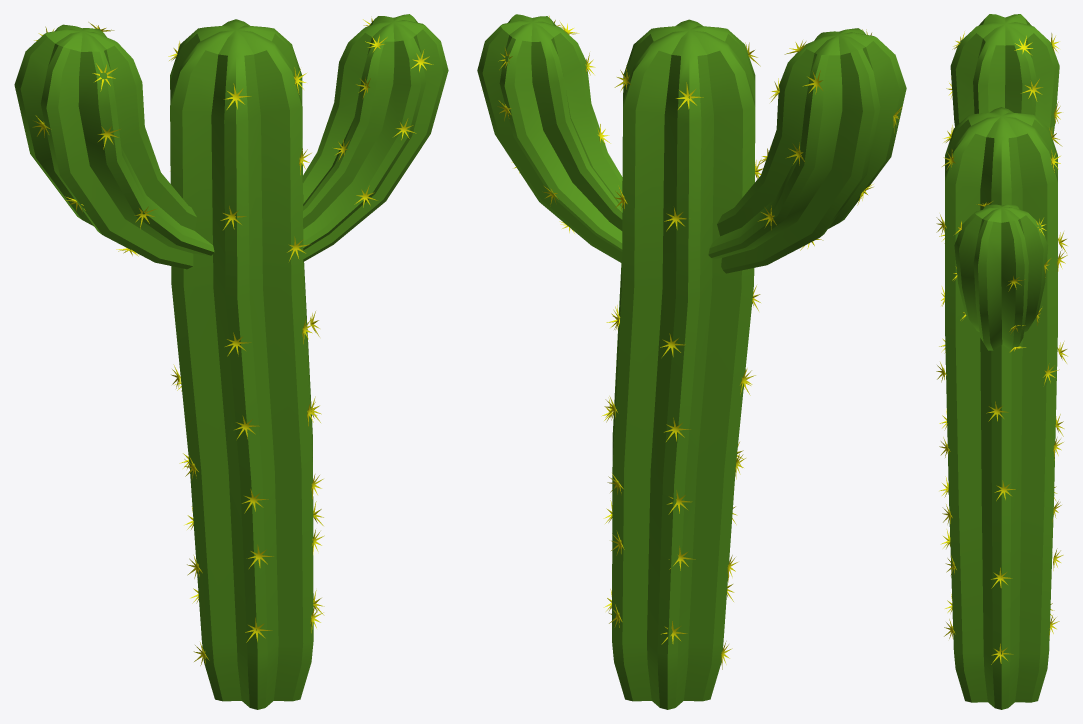
File: cactus02.obj
3 renders of one model, left to right at view 1: azimuth 30°, elevation 25°; view 2: azimuth 150°, elevation 25°; view 3: azimuth 270°, elevation 25°, orthographic. The views are drawn at different scales.
Parts seen in each view (by area): view 1: Cactuss_02_cactus02; view 2: Cactuss_02_cactus02; view 3: Cactuss_02_cactus02.
Part boxes in pixels (bbox=[...]): Cactuss_02_cactus02: bbox=[14, 14, 448, 709]; Cactuss_02_cactus02: bbox=[477, 14, 906, 709]; Cactuss_02_cactus02: bbox=[936, 14, 1067, 709].
Bounding box in the file's own units: 326 × 535 × 109.
1 material, 1 textured.
